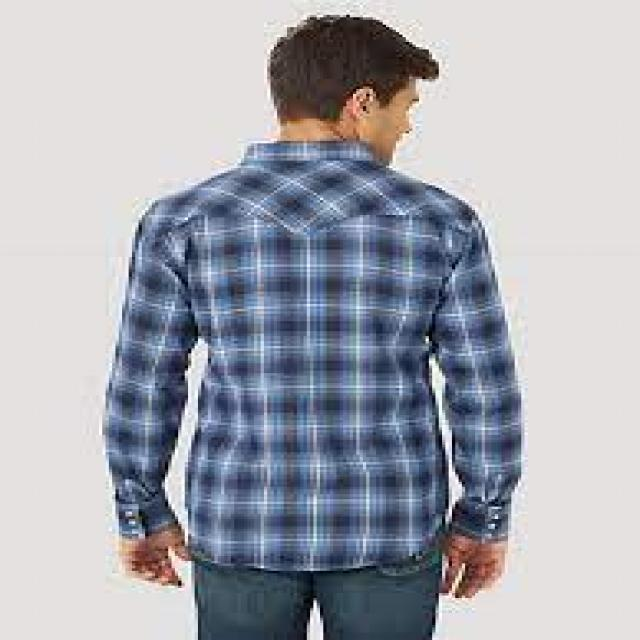plaid: (98, 136, 516, 564)
